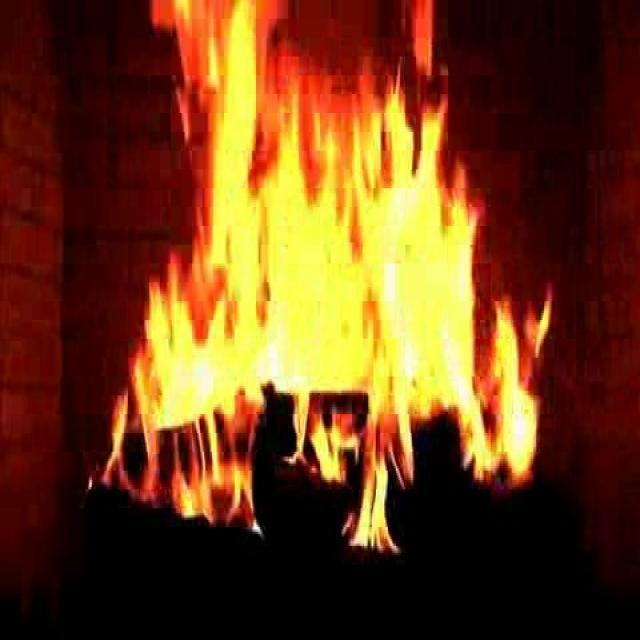Fire: (157, 8, 528, 530)
